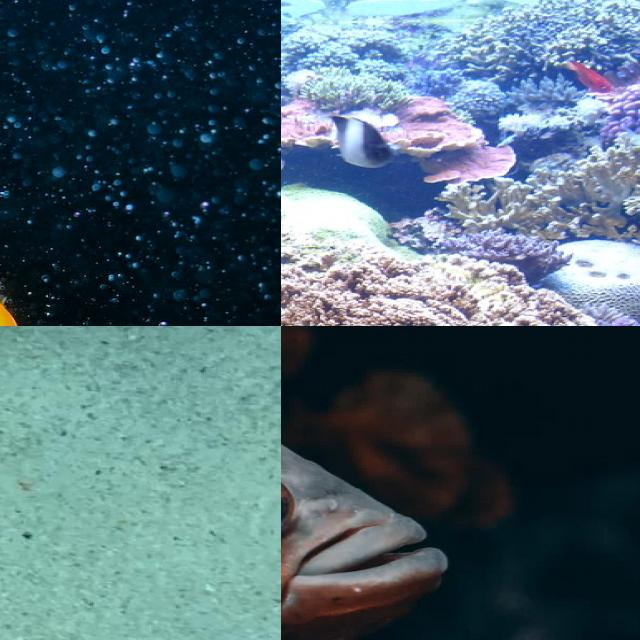fish: (0, 0, 281, 326), (281, 368, 530, 588)
